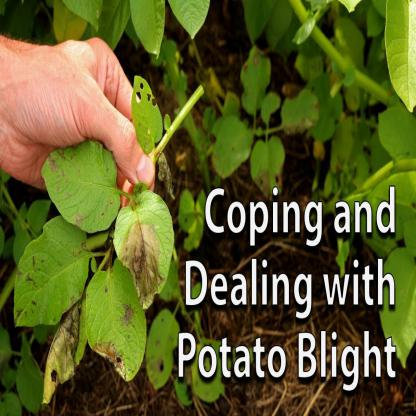potato leaf early blight: (13, 206, 94, 328), (40, 132, 124, 233), (82, 259, 148, 380), (111, 195, 178, 308)
potato leaf late blight: (42, 300, 85, 410)
